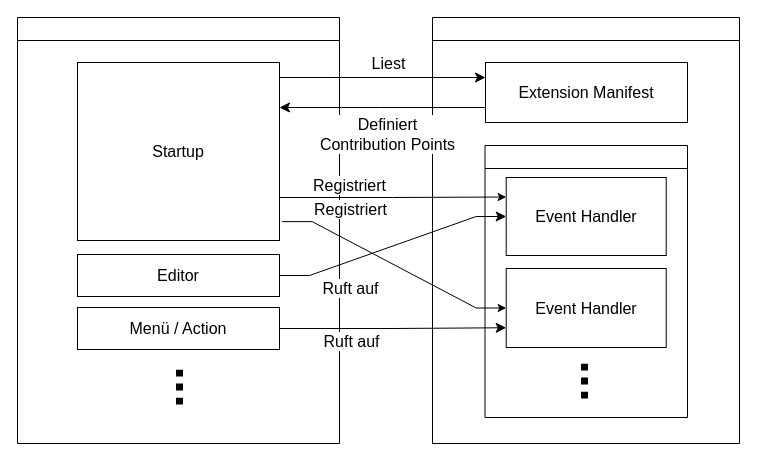
Image size: 757x461. Some labels were removed from this diagram. The box of each missing label's shape, as (x1, y1, x2, y2) in pixels:
IntelliJ IDEA: (16, 16, 340, 444)
Logik: (484, 144, 688, 418)
Plugin: (432, 16, 740, 444)
